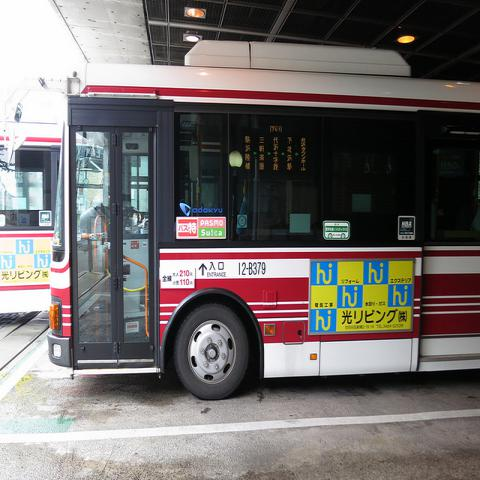bus: (43, 38, 479, 400), (0, 125, 61, 316)
